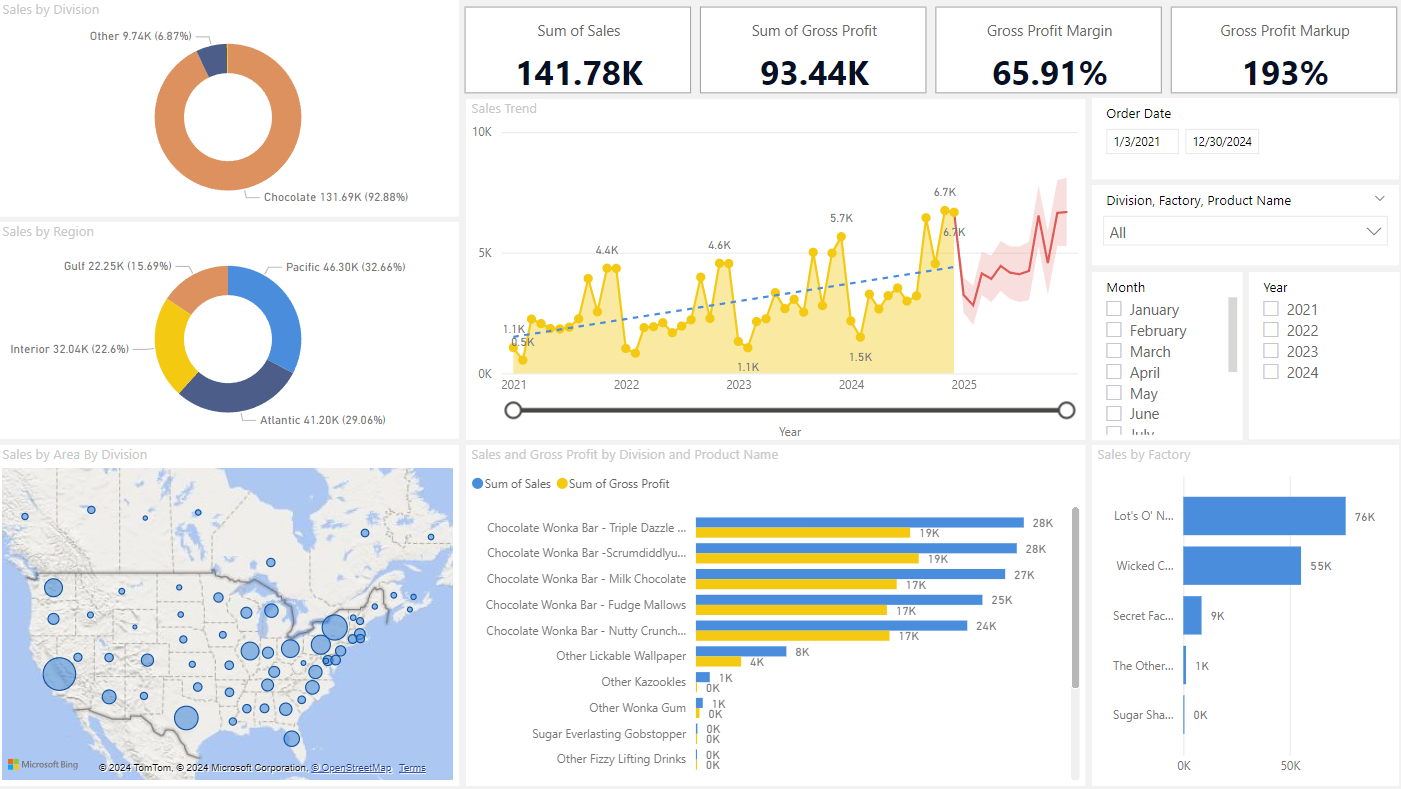

What the dashboard file says about the page in this screenshot:
{"tool":"powerbi","page":{"name":"Overview","canvas":[1280,720],"ordinal":0},"visuals":[{"type":"cardVisual","fields":{"Data":["Sum(Candy_Sales.Sales)","Sum(Candy_Sales.Gross Profit)","Candy_Sales.Gross Profit Margin","Candy_Sales.Gross Profit Markup"]},"box":[419.8,1,860.2,89.6],"z":0},{"type":"donutChart","title":"Sales by Division","fields":{"Y":["Sum(Candy_Sales.Sales)"],"Category":["Candy_Products.Division"]},"box":[0,0,420,197],"z":1000},{"type":"donutChart","title":"Sales by Region","fields":{"Category":["Candy_Sales.Region"],"Y":["Sum(Candy_Sales.Sales)"]},"box":[0,201.6,420,197],"z":2000},{"type":"slicer","fields":{"Values":["Candy_Sales.Order Date"]},"box":[995.6,88.6,279,74],"z":3000},{"type":"slicer","fields":{"Values":["Candy_Sales.Order Date.Variation.Date Hierarchy.Year"]},"box":[1138.2,247.3,137.3,151.8],"z":4000},{"type":"slicer","fields":{"Values":["Candy_Sales.Order Date.Variation.Date Hierarchy.Month"]},"box":[995.5,247.3,137.3,152.7],"z":5000},{"type":"slicer","fields":{"Values":["Candy_Products.Division","Candy_Products.Factory","Candy_Products.Product Name"]},"box":[995.6,168.5,279,73],"z":6000},{"type":"lineChart","title":"Sales Trend","fields":{"Y":["Sum(Candy_Sales.Sales)"],"Category":["Candy_Sales.Order Date.Variation.Date Hierarchy.Year","Candy_Sales.Order Date.Variation.Date Hierarchy.Month","Candy_Sales.Order Date.Variation.Date Hierarchy.Day"]},"box":[426.7,89.6,563,310],"z":7000},{"type":"clusteredBarChart","title":"Sales and Gross Profit by Division and Product Name","fields":{"Category":["Candy_Products.Division","Candy_Products.Product Name"],"Y":["Sum(Candy_Sales.Sales)","Sum(Candy_Sales.Gross Profit)"]},"box":[426.7,404.3,563,310],"z":8000},{"type":"clusteredBarChart","title":"Sales by Factory","fields":{"Y":["Sum(Candy_Sales.Sales)"],"Category":["Candy_Factories.Factory"]},"box":[995.5,404.5,279.1,310],"z":9000},{"type":"map","title":"Sales by Area By Division","fields":{"Category":["Candy_Sales.State/Province","Candy_Sales.City"],"Size":["Sum(Candy_Sales.Sales)"]},"box":[0,404.5,420,310],"z":10000}]}

Visuals, with their boxes in screenshot pixels (x1, y1, x2, y2), scaled from the page's 1280x720 canvas onto the 1401x789 screenshot:
cardVisual - Sum(Candy_Sales.Sales) x Sum(Candy_Sales.Gross Profit): 459:1:1400:99
"Sales by Division" donutChart: 0:0:460:216
"Sales by Region" donutChart: 0:221:460:437
slicer - Candy_Sales.Order Date: 1090:97:1395:178
slicer - Candy_Sales.Order Date.Variation.Date Hierarchy.Year: 1246:271:1396:437
slicer - Candy_Sales.Order Date.Variation.Date Hierarchy.Month: 1090:271:1240:438
slicer - Candy_Products.Division x Candy_Products.Factory: 1090:185:1395:265
"Sales Trend" lineChart: 467:98:1083:438
"Sales and Gross Profit by Division and Product Name" clusteredBarChart: 467:443:1083:783
"Sales by Factory" clusteredBarChart: 1090:443:1395:783
"Sales by Area By Division" map: 0:443:460:783
